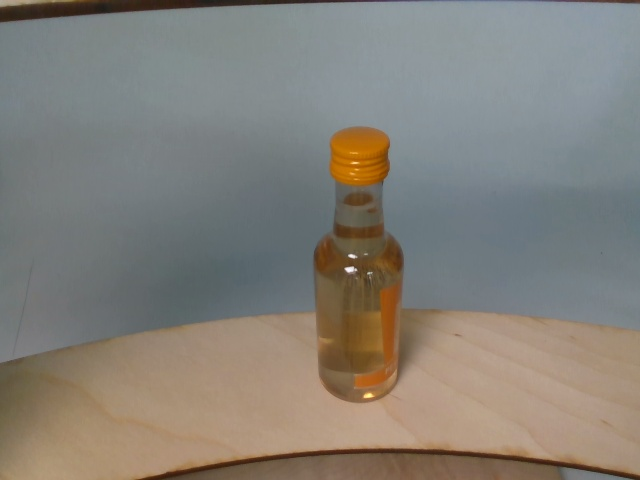ginger_beer: (313, 127, 406, 403)
